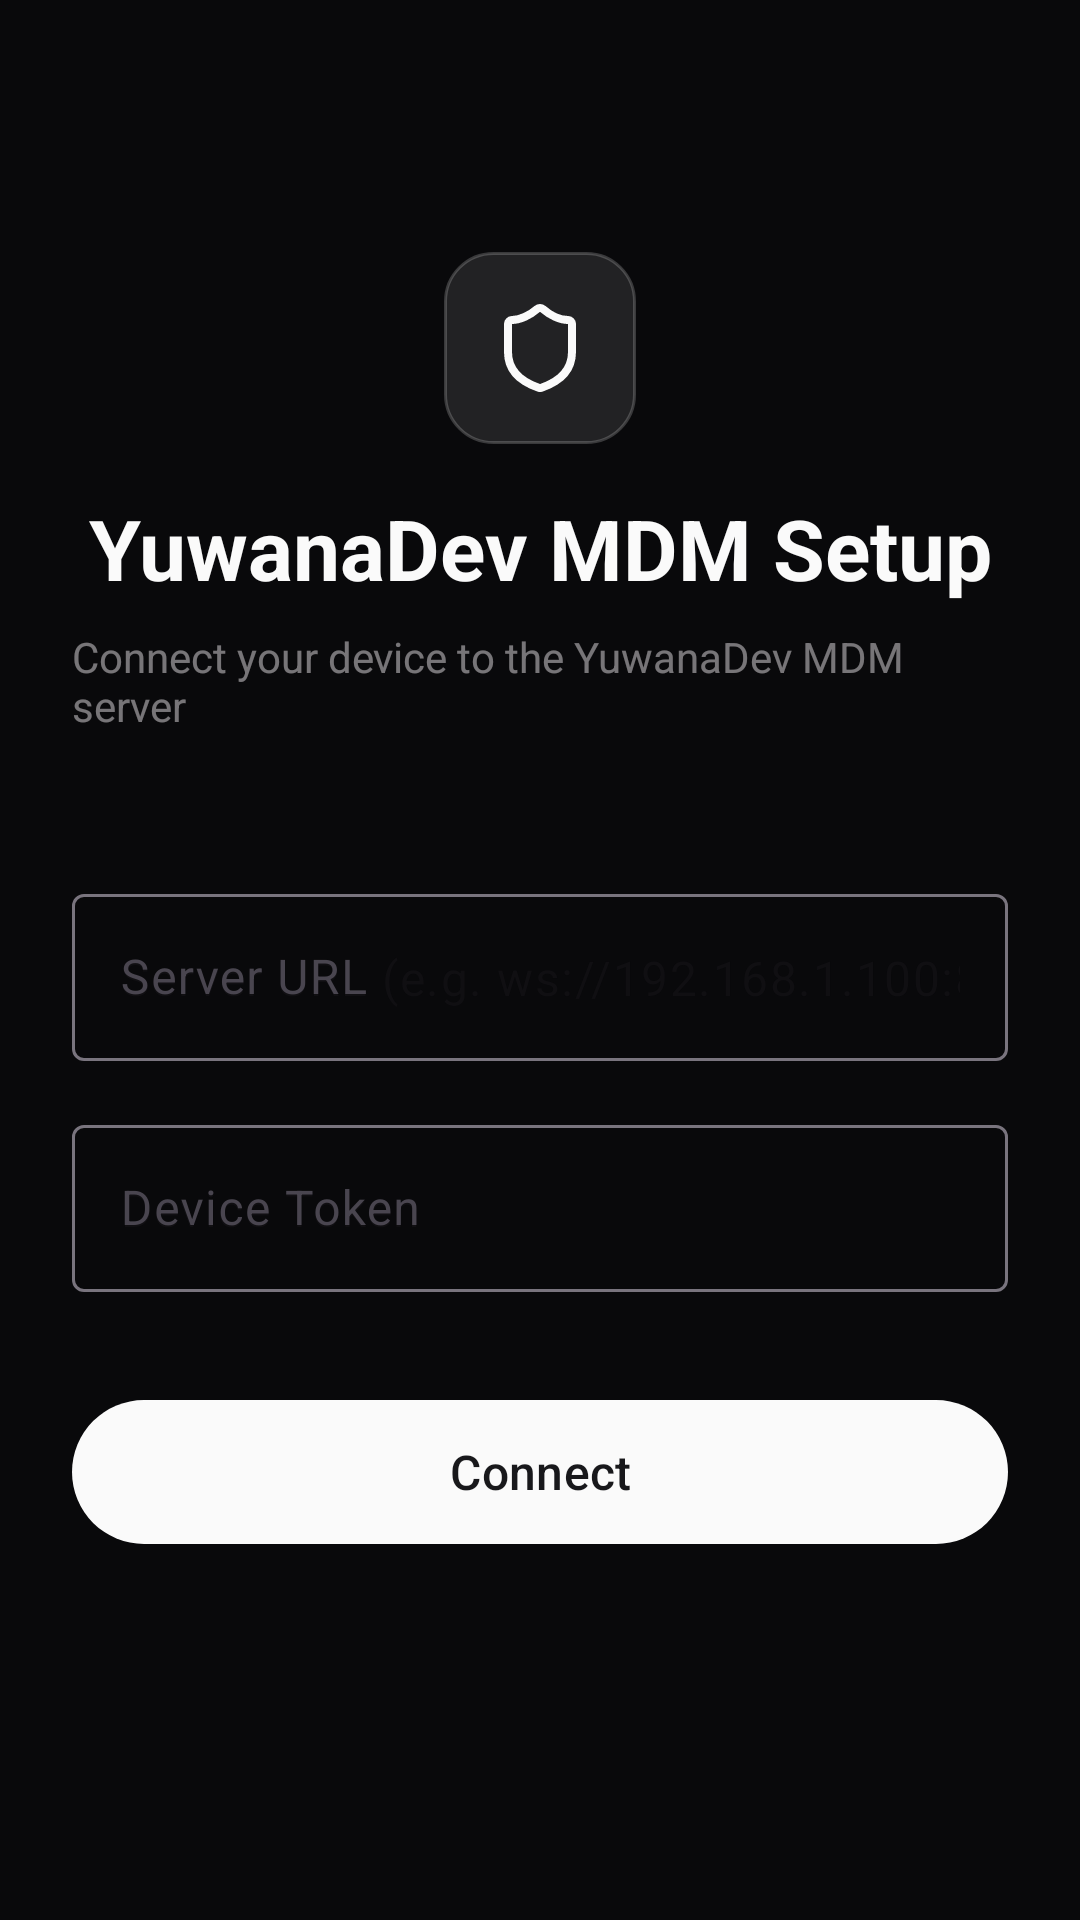

Icon bounding boxes for this 1080px×1920px phone screenshot, format (x1, y1, x2, y2):
shield: (504, 304, 576, 392)
